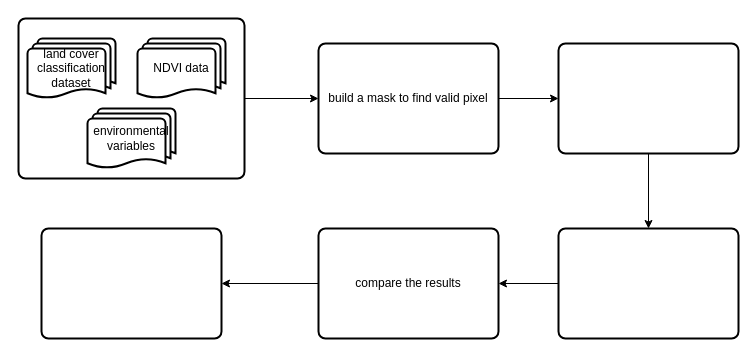
Some shapes in this 756 by 356 pixel diagram are drawn without their labels. Here are the shapes that lost their labels. From the top down, the box of each, then its label:
(557, 42, 739, 154): use different input variables to train the model
(40, 227, 222, 339): find the optimal variable combination
(557, 227, 739, 339): test the variable importance
